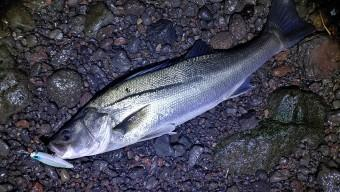fish: (49, 0, 312, 158)
